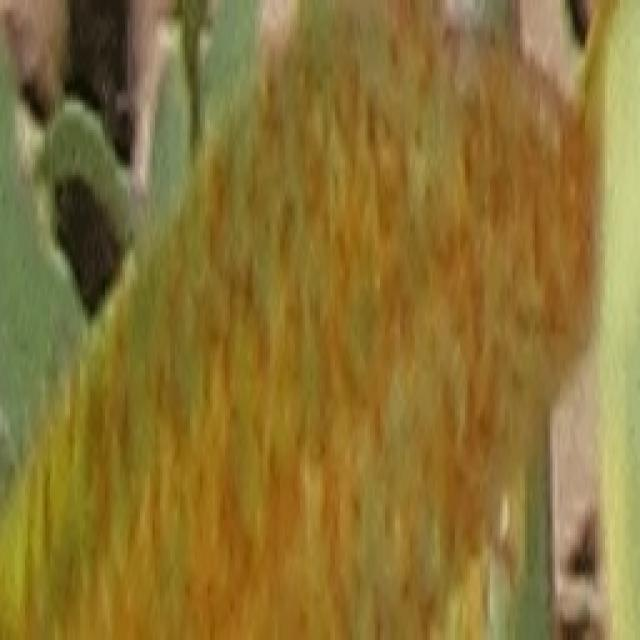Healthy Wheat: (0, 0, 598, 638)
